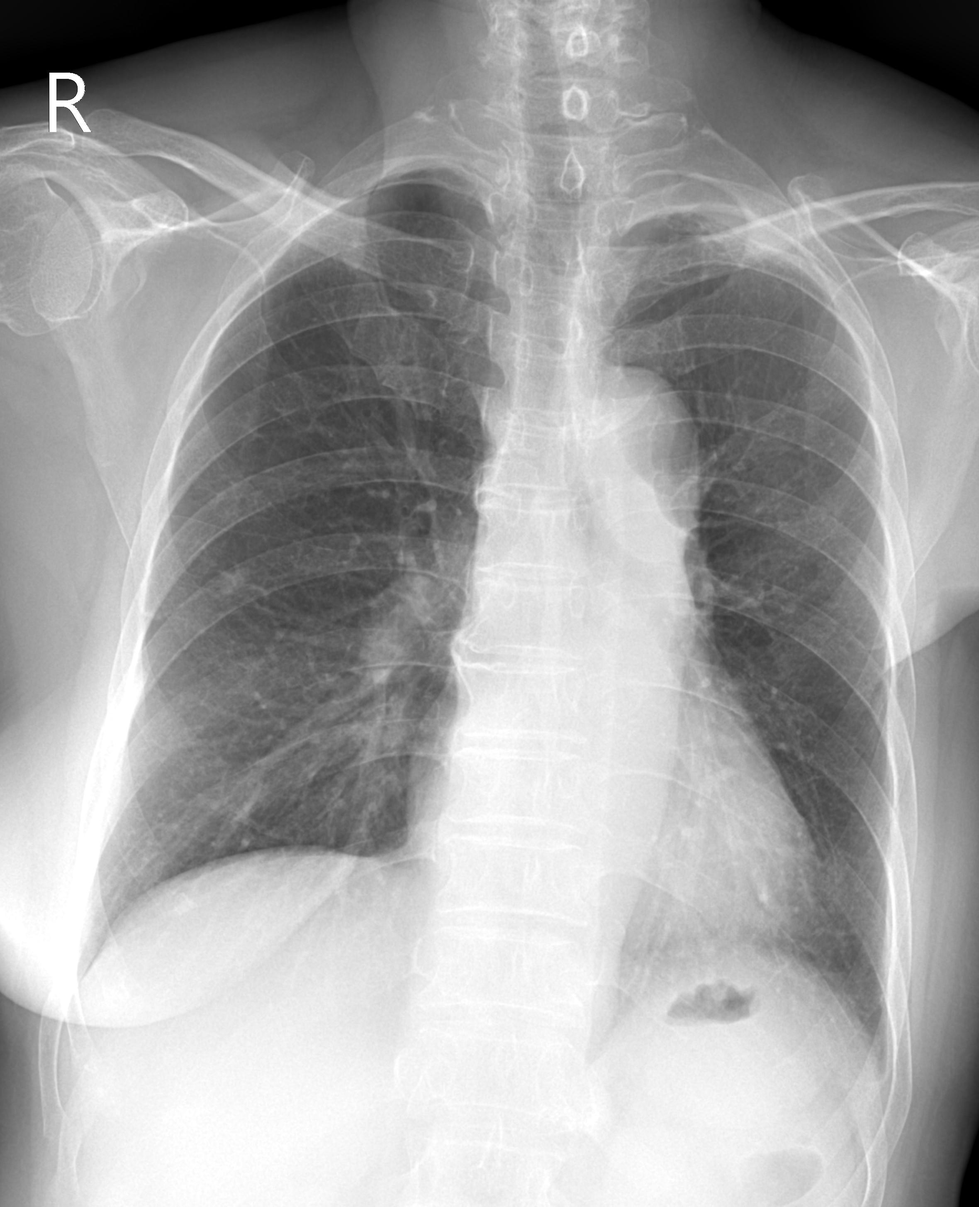Aortic enlargement: (567, 366, 700, 510)
Cardiomegaly: (406, 727, 829, 968)
Pleural thickening: (606, 171, 826, 289), (385, 157, 470, 170)
